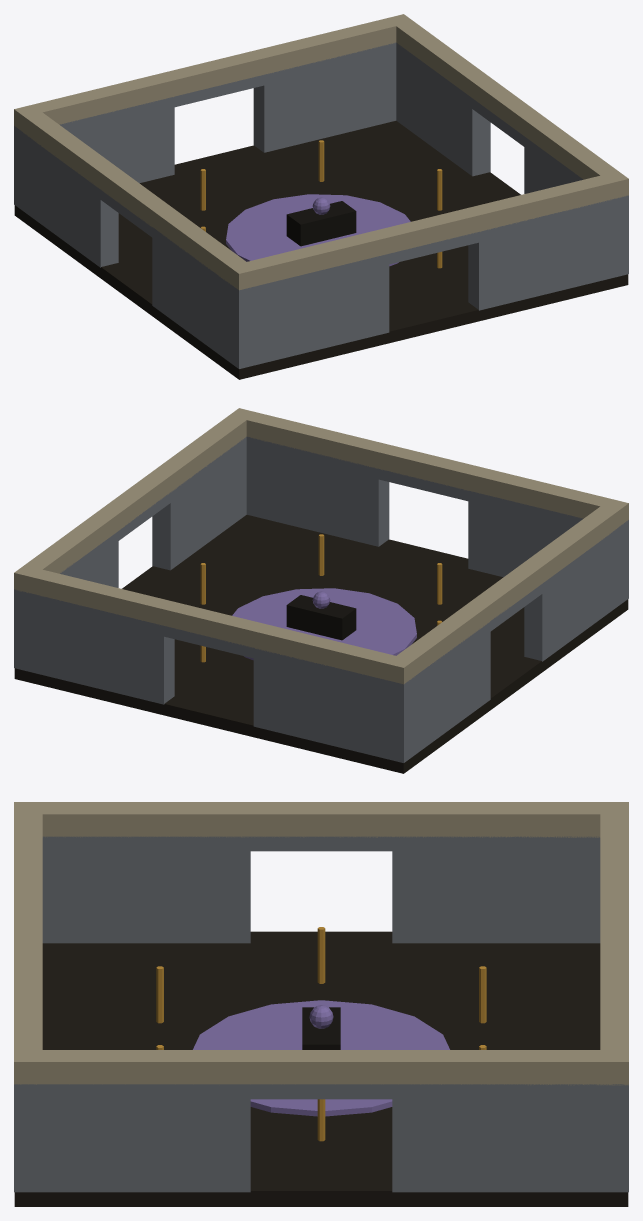
The model's file is CryptChamberFinal.fbx.
The picture shows the model from 3 angles, top to bottom: view 1: azimuth 30°, elevation 25°; view 2: azimuth 150°, elevation 25°; view 3: azimuth 270°, elevation 25°; orthographic projection. The views are drawn at different scales.
Visible parts, largest first — view 1: CryptChamberFinal; view 2: CryptChamberFinal; view 3: CryptChamberFinal.
Part boxes in pixels (x1,y1,x2,y2): CryptChamberFinal: [14, 14, 628, 379]; CryptChamberFinal: [14, 408, 628, 773]; CryptChamberFinal: [14, 802, 628, 1206].
Bounding box in the file's own units: 1122 × 292 × 1122.
Materials: 6 (6 with a texture image).
